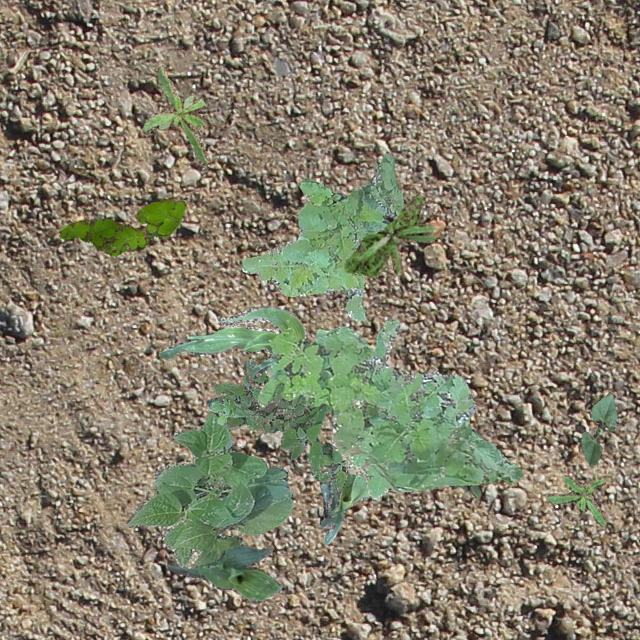crop: (125, 412, 292, 566), (158, 304, 304, 376), (166, 544, 280, 600), (318, 467, 368, 542), (580, 392, 616, 464)
weed: (256, 318, 522, 498), (240, 152, 402, 320), (250, 382, 344, 494), (344, 194, 434, 276), (58, 198, 185, 255), (140, 64, 208, 164), (206, 358, 294, 432), (206, 394, 296, 430), (546, 474, 604, 524), (456, 428, 482, 497)
